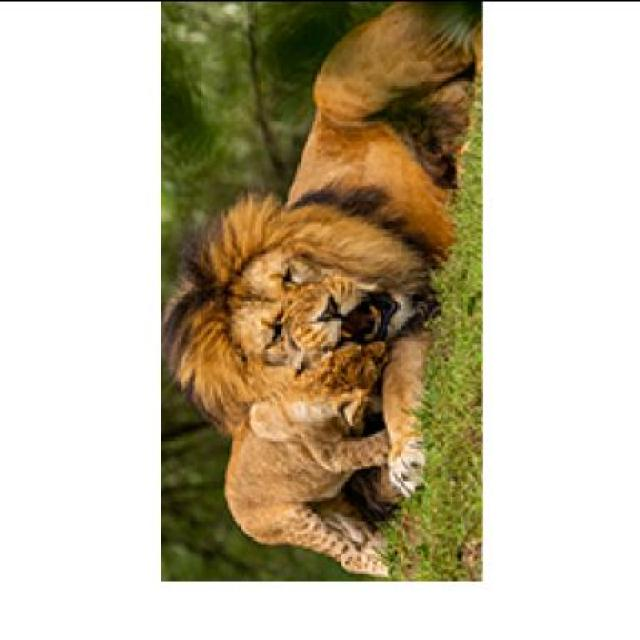Lion: (163, 3, 535, 599)
